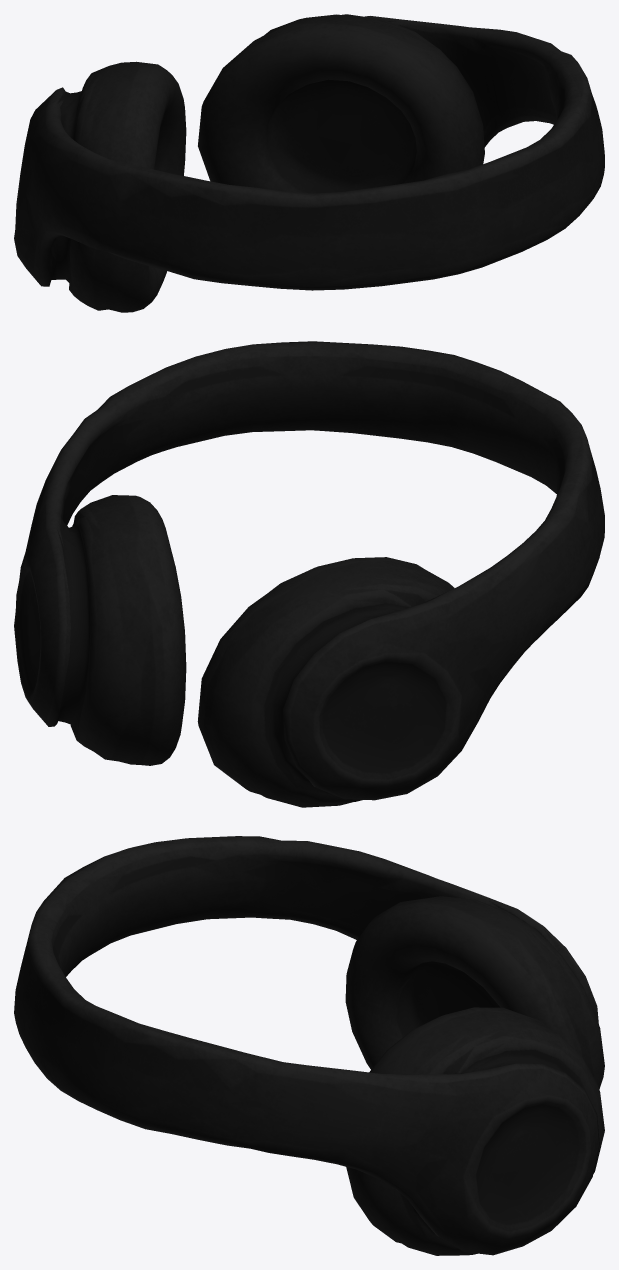
The picture shows the model from 3 angles, top to bottom: view 1: azimuth 30°, elevation 25°; view 2: azimuth 150°, elevation 25°; view 3: azimuth 270°, elevation 25°; orthographic projection.
Parts seen in each view (by area): view 1: geometry_0; view 2: geometry_0; view 3: geometry_0.
Part boxes in pixels (<box>): geometry_0: <box>14,14,604,312</box>; geometry_0: <box>14,341,604,807</box>; geometry_0: <box>14,836,604,1255</box>.
Bounding box in the file's own units: 1.51 × 0.7411 × 1.54.
1 material, 1 textured.
